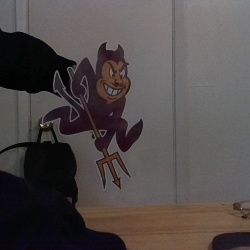sparky: (41, 40, 144, 191)
